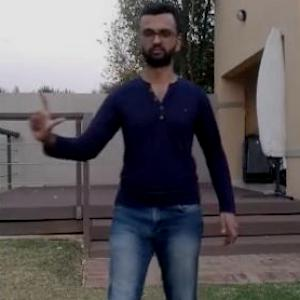land_hand: (18, 88, 67, 148)
